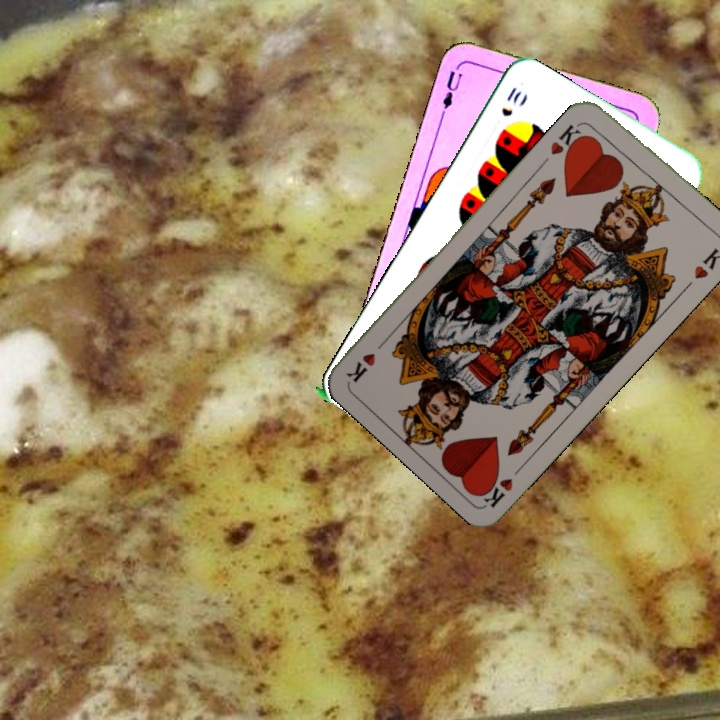EU: (437, 66, 465, 119)
HK: (477, 459, 528, 510), (546, 117, 588, 162)
S10: (497, 82, 524, 120)
